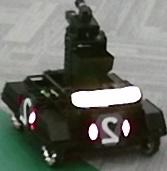armor_2: (88, 120, 130, 140)
back_2: (97, 113, 123, 146)
left_2: (19, 93, 33, 126)
light: (72, 85, 142, 108)
